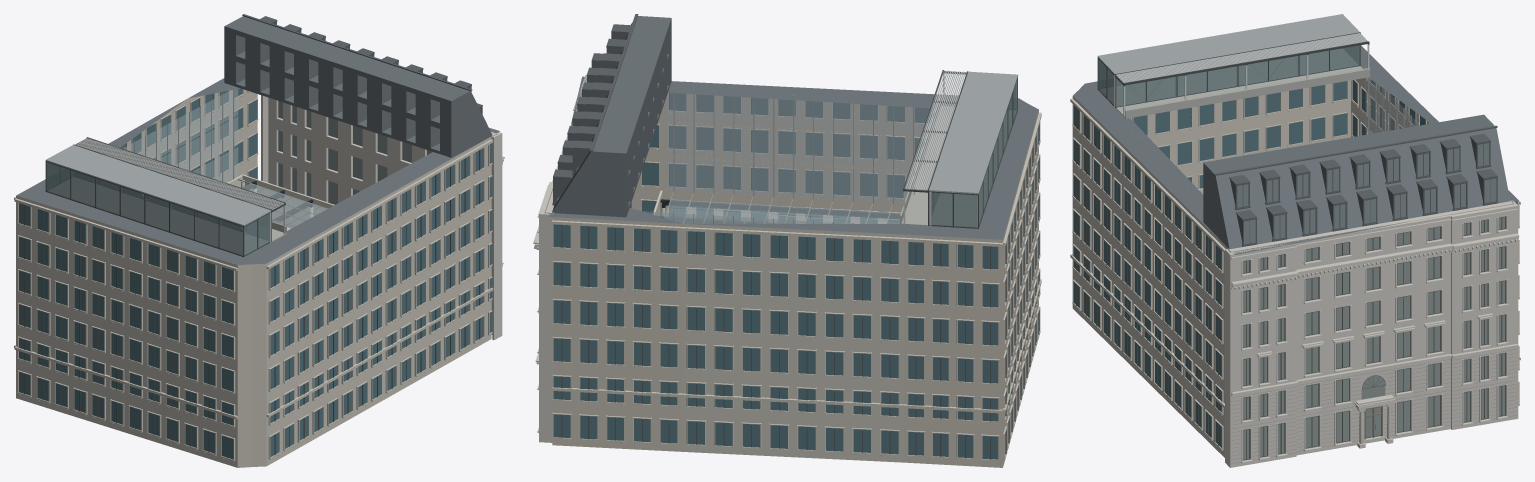
File: ckk-exterior-68ef18b85256.glb
3 renders of one model, left to right at view 1: azimuth 30°, elevation 25°; view 2: azimuth 150°, elevation 25°; view 3: azimuth 270°, elevation 25°, orthographic. The views are drawn at different scales.
Visible parts, largest first — view 1: CKK.001; view 2: CKK.001; view 3: CKK.001.
Part boxes in pixels (<box>): CKK.001: <box>14,14,504,467</box>; CKK.001: <box>533,14,1041,467</box>; CKK.001: <box>1070,14,1520,467</box>.
Bounding box in the file's own units: 56.1 × 32.3 × 47.89.
